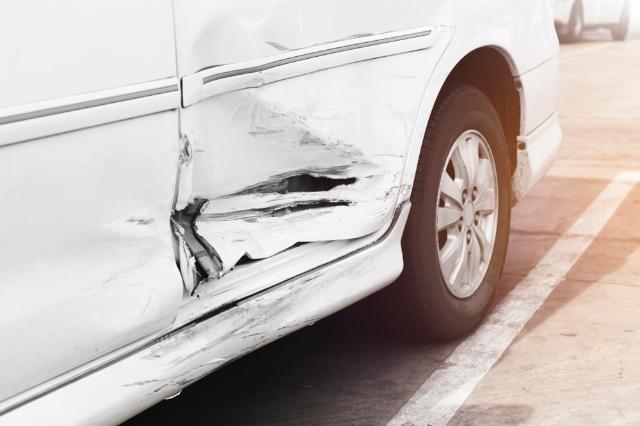crack: (174, 198, 223, 291), (276, 171, 359, 197), (268, 200, 355, 221)
dent: (182, 86, 393, 271), (187, 9, 314, 68)
scratch: (120, 268, 326, 410)
